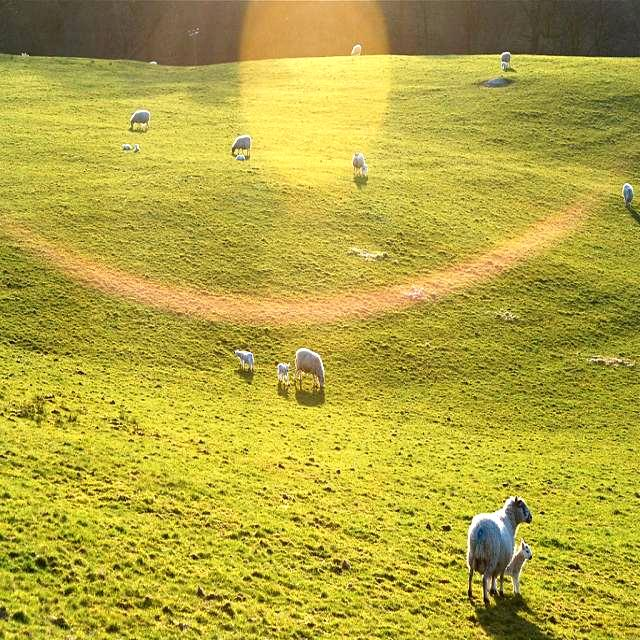sheep: (467, 497, 531, 600), (503, 541, 530, 593)
